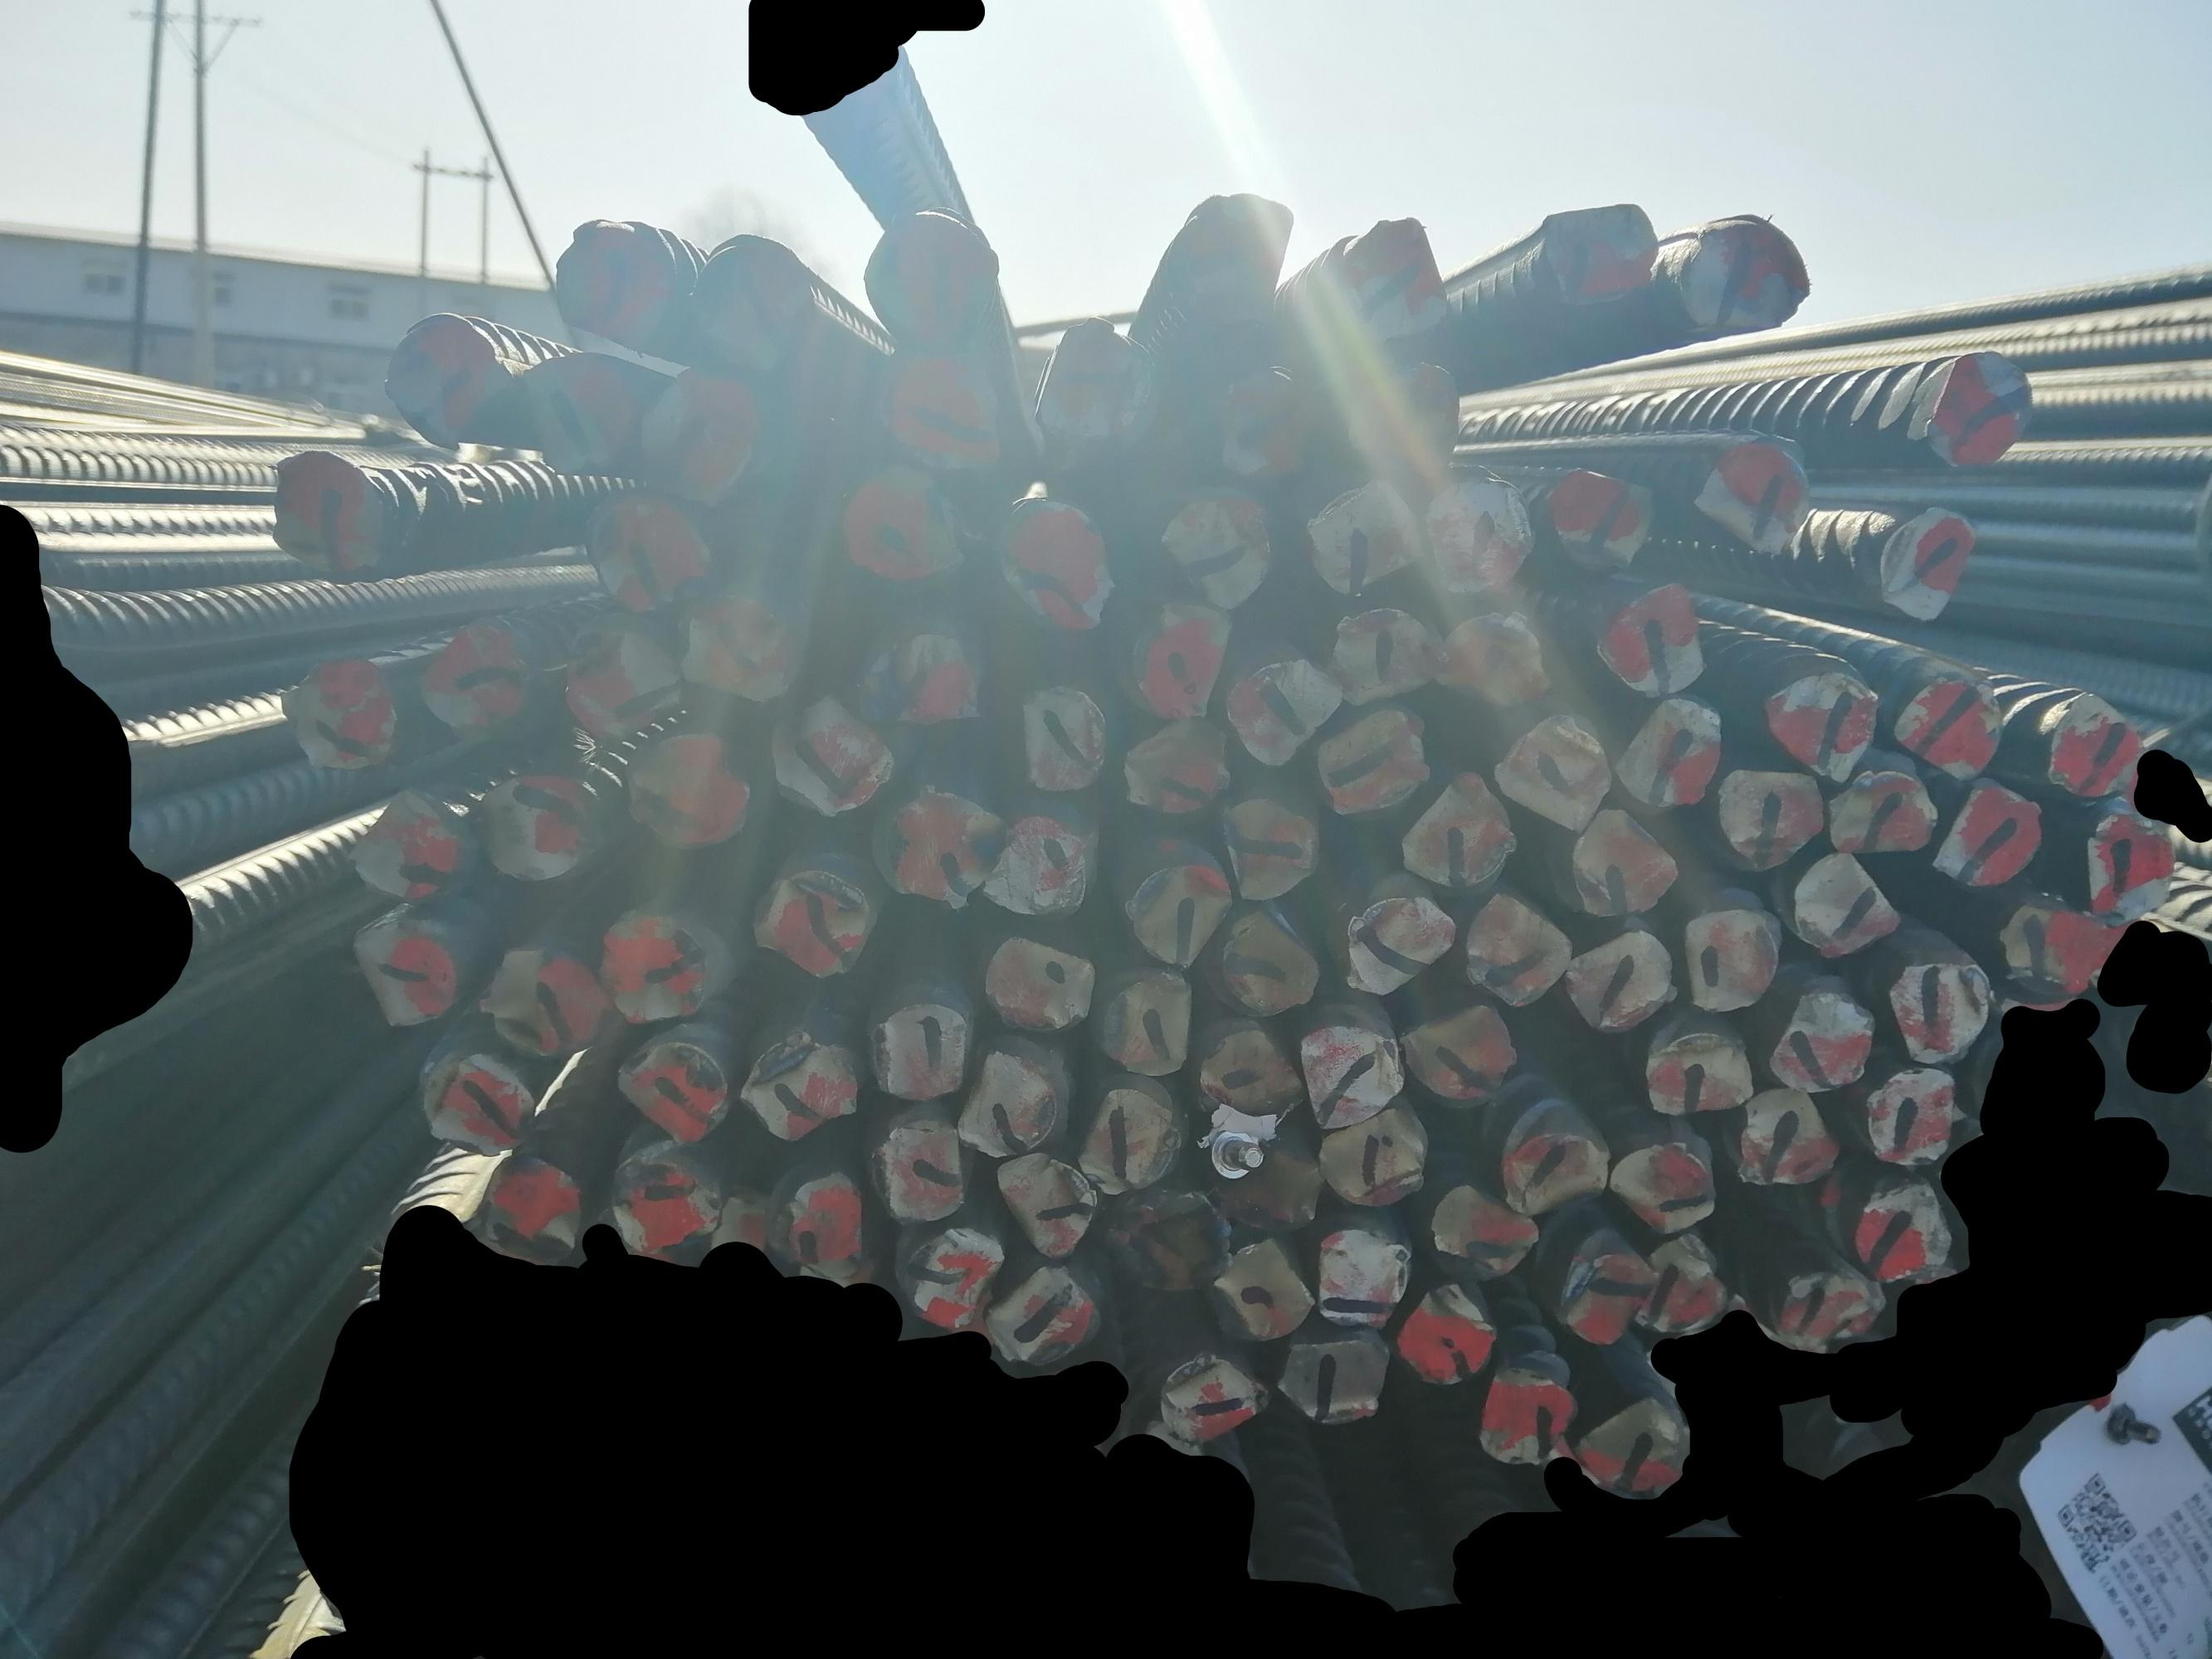bar: (1156, 179, 1299, 329), (1658, 207, 1813, 342), (1314, 206, 1452, 347), (865, 206, 1001, 349), (500, 342, 648, 472), (413, 605, 547, 748), (636, 359, 760, 512), (547, 207, 683, 345), (577, 477, 713, 615), (1902, 343, 2039, 479), (1147, 472, 1278, 615), (1027, 315, 1163, 450), (870, 779, 1009, 908), (1679, 422, 1815, 552), (830, 458, 966, 589), (389, 301, 511, 446), (997, 491, 1119, 636), (882, 331, 1006, 472), (852, 615, 997, 735), (1342, 354, 1471, 488), (683, 234, 814, 364), (1855, 502, 1989, 629), (671, 573, 807, 699), (621, 725, 757, 850), (277, 647, 406, 777), (765, 687, 892, 817), (549, 617, 680, 742), (267, 450, 394, 575), (349, 775, 471, 903), (1417, 469, 1537, 596), (594, 910, 708, 1044), (474, 772, 603, 889), (1497, 711, 1619, 833), (476, 941, 601, 1060), (1215, 653, 1340, 772), (1593, 577, 1710, 704), (1536, 190, 1665, 305), (1614, 687, 1724, 821), (739, 1023, 861, 1143), (1309, 699, 1429, 821), (1764, 659, 1881, 784), (1398, 769, 1522, 885), (1541, 457, 1654, 584), (746, 864, 873, 978), (1211, 361, 1323, 490), (1309, 479, 1422, 603), (1124, 591, 1234, 718), (1461, 889, 1578, 1007), (974, 809, 1096, 922), (1393, 1000, 1517, 1112), (1890, 667, 2013, 779), (1201, 1126, 1321, 1239), (1879, 951, 2001, 1063), (2074, 795, 2181, 922), (342, 910, 451, 1032), (973, 932, 1098, 1039), (615, 1028, 727, 1147), (751, 1166, 870, 1277), (1558, 805, 1680, 913), (1937, 781, 2052, 894), (866, 988, 974, 1108), (1330, 599, 1443, 713), (471, 1152, 582, 1267), (1781, 847, 1896, 958), (1339, 894, 1457, 1002), (603, 1150, 723, 1256), (988, 1258, 1095, 1378), (1103, 1195, 1234, 1293), (1208, 904, 1321, 1016), (1675, 903, 1785, 1018), (1729, 1084, 1846, 1192), (1764, 986, 1881, 1094), (1072, 1079, 1178, 1197), (1309, 1107, 1433, 1208), (999, 680, 1109, 793), (1712, 760, 1822, 873), (1560, 924, 1675, 1032), (1571, 1396, 1687, 1502), (418, 1053, 542, 1152), (992, 1147, 1098, 1262), (1299, 1018, 1405, 1131), (1846, 1175, 1952, 1288), (1551, 1241, 1659, 1351), (892, 1222, 999, 1333), (866, 1114, 971, 1227), (1435, 606, 1550, 709), (1124, 856, 1227, 971), (1635, 1023, 1761, 1115), (1764, 1260, 1883, 1358), (1089, 969, 1196, 1077), (1818, 769, 1937, 864), (1203, 1237, 1311, 1342), (1123, 713, 1232, 816), (1429, 1175, 1539, 1277), (1628, 1225, 1729, 1337), (1394, 1281, 1501, 1385), (1614, 1131, 1720, 1236), (950, 1053, 1058, 1155), (2046, 687, 2144, 800), (1865, 1063, 1963, 1176), (1157, 1347, 1269, 1445), (1199, 1021, 1306, 1122), (1307, 1223, 1408, 1330), (1475, 1370, 1583, 1469), (1218, 796, 1316, 904), (1499, 1119, 1611, 1213), (1278, 1333, 1391, 1425), (1991, 889, 2086, 993)
